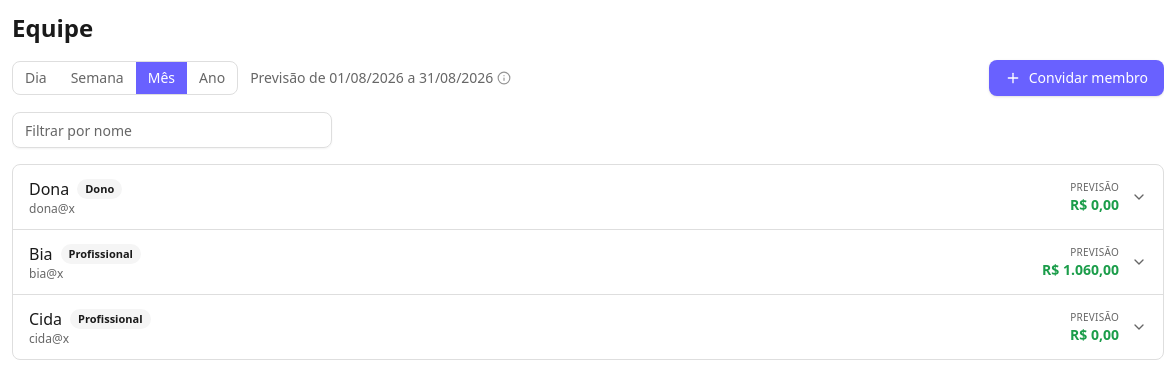
Test: Equipe (Story 5.9) › filtro por nome esconde os demais
Expected: the text "Bia" is shown, [29,242,52,266]
In the field labelled "Filtrar por nome": (172, 130) [12,112,332,148], type "Cida"
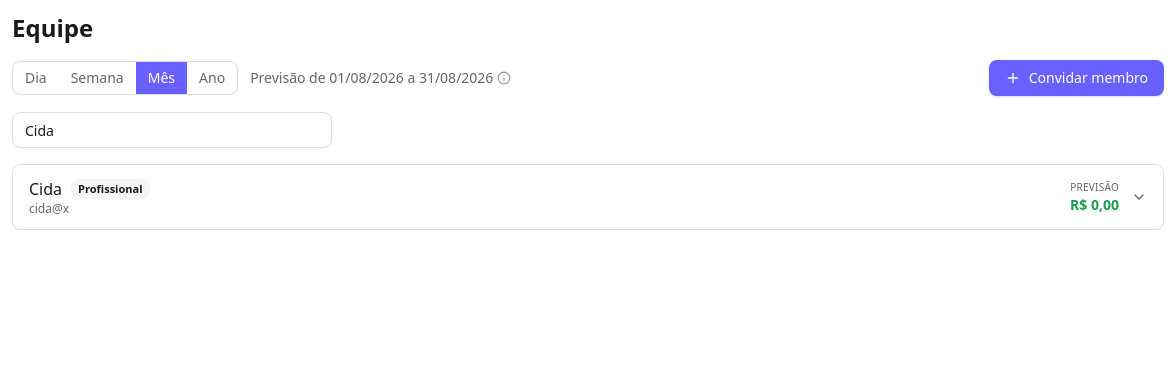
Expected: the text "Cida" is shown, [29,177,62,201]
Result: the button "Bia" is gone
